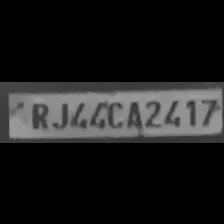1: (182, 96, 198, 126)
2: (142, 96, 160, 128)
4: (160, 96, 182, 126), (68, 98, 86, 128), (89, 98, 106, 128)
7: (198, 96, 218, 127)
A: (122, 97, 142, 127)
C: (104, 98, 122, 128)
J: (51, 98, 69, 128)
R: (26, 99, 50, 129)
